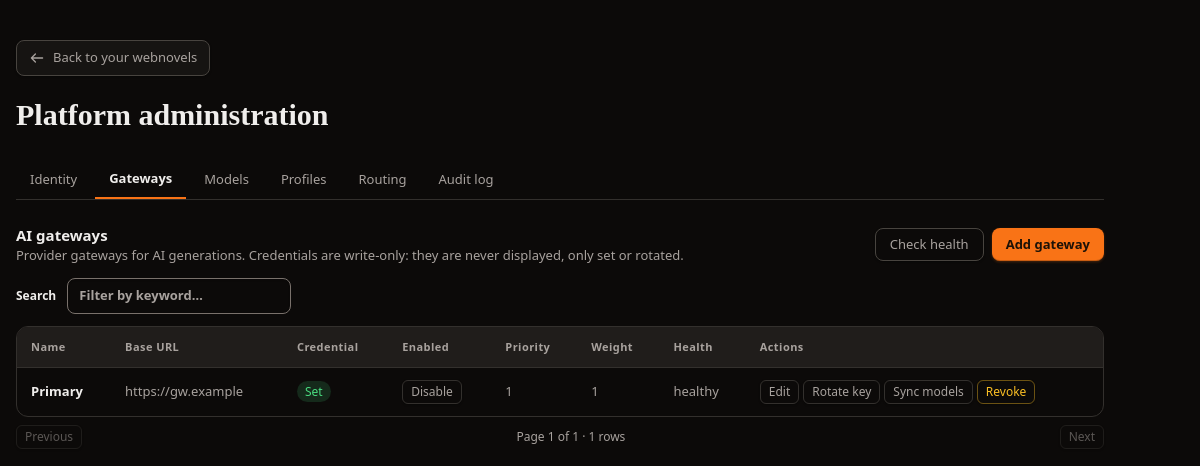
Test case: admin gateway action toasts › health check shows a red toast for an unhealthy gateway
Click the button "Check health" at {"x": 929, "y": 245}, box [875,228,984,261]
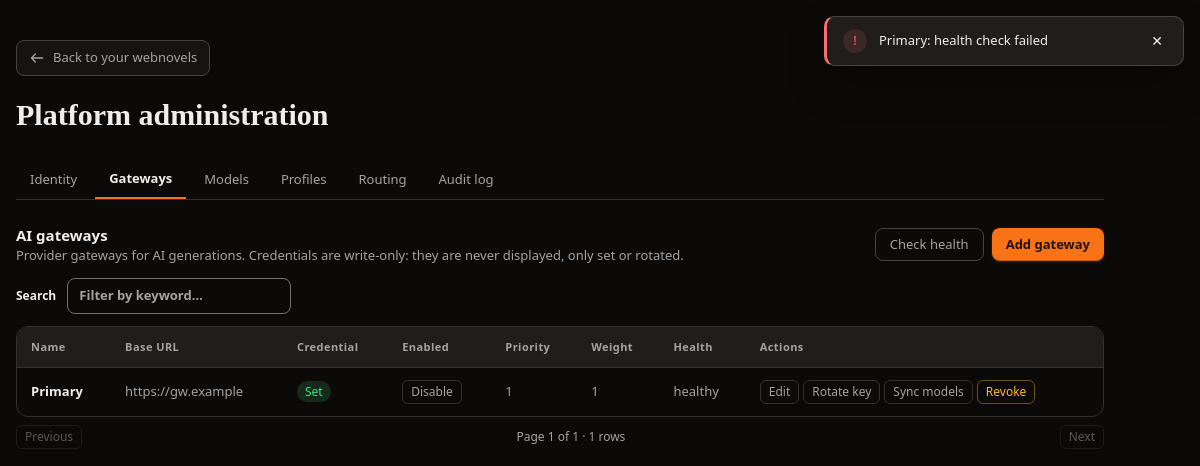
Now the message with test id "toast-error" shows "Primary: health check failed", box [879,31,1048,49]
